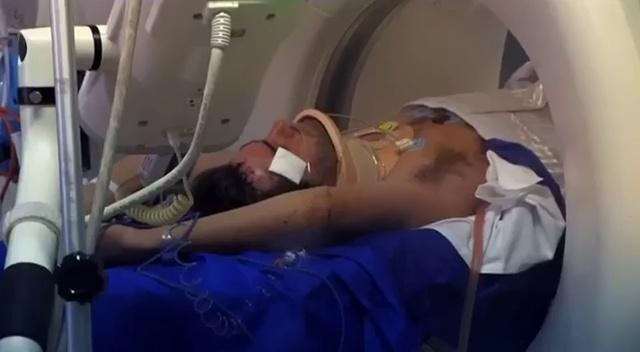patient: (83, 105, 494, 259)
